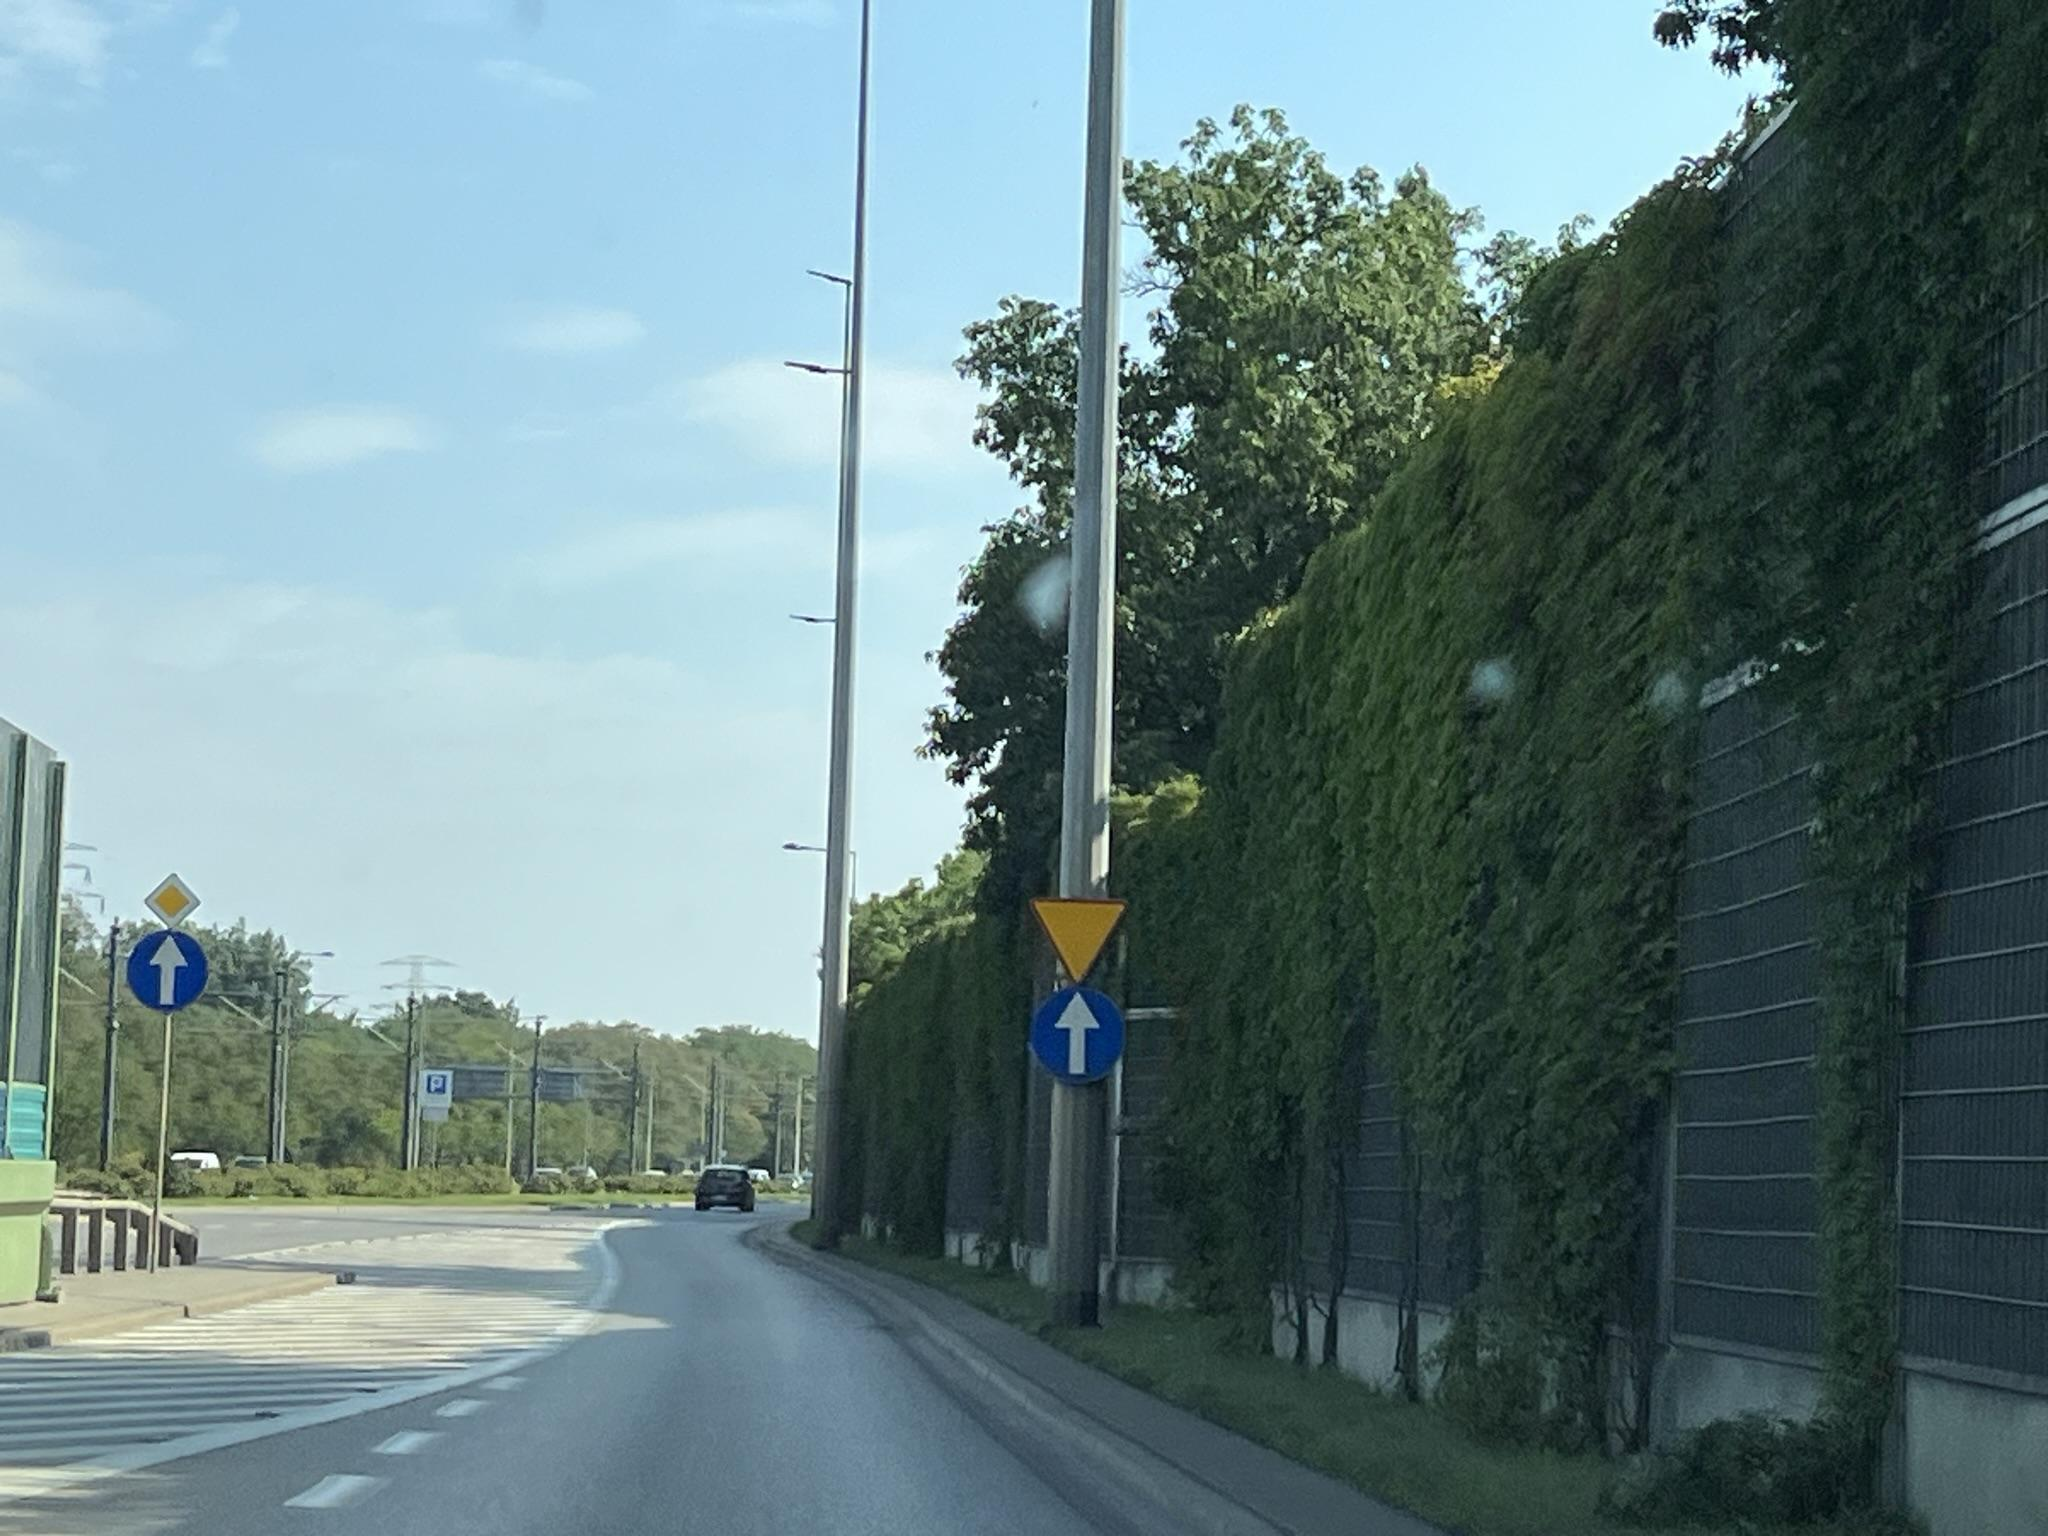information: (1027, 986, 1127, 1086), (144, 871, 203, 929), (426, 1073, 447, 1094)
mandatory: (126, 929, 211, 1013)
warning: (1027, 895, 1129, 984)
